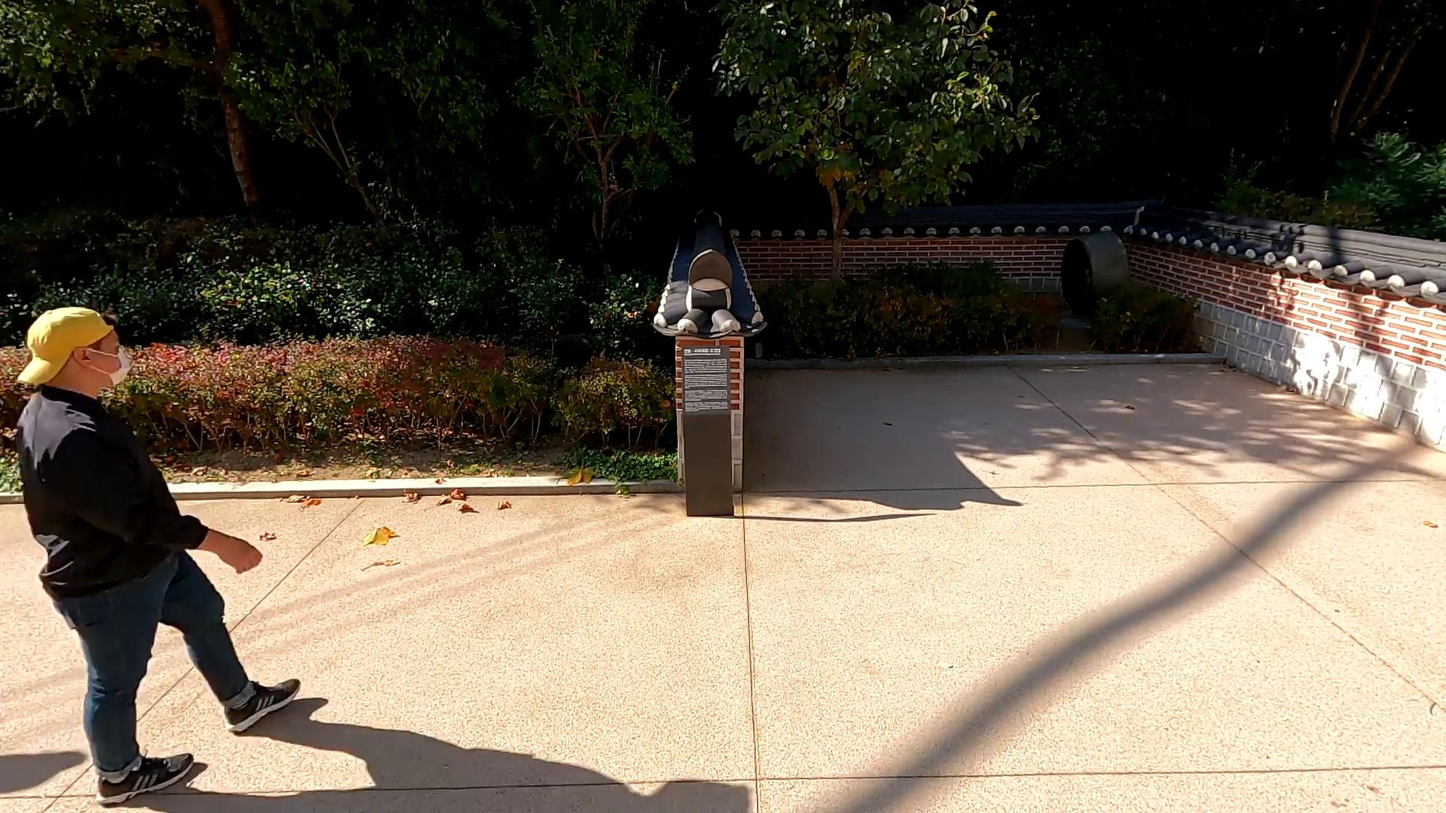person: (2, 284, 317, 813)
